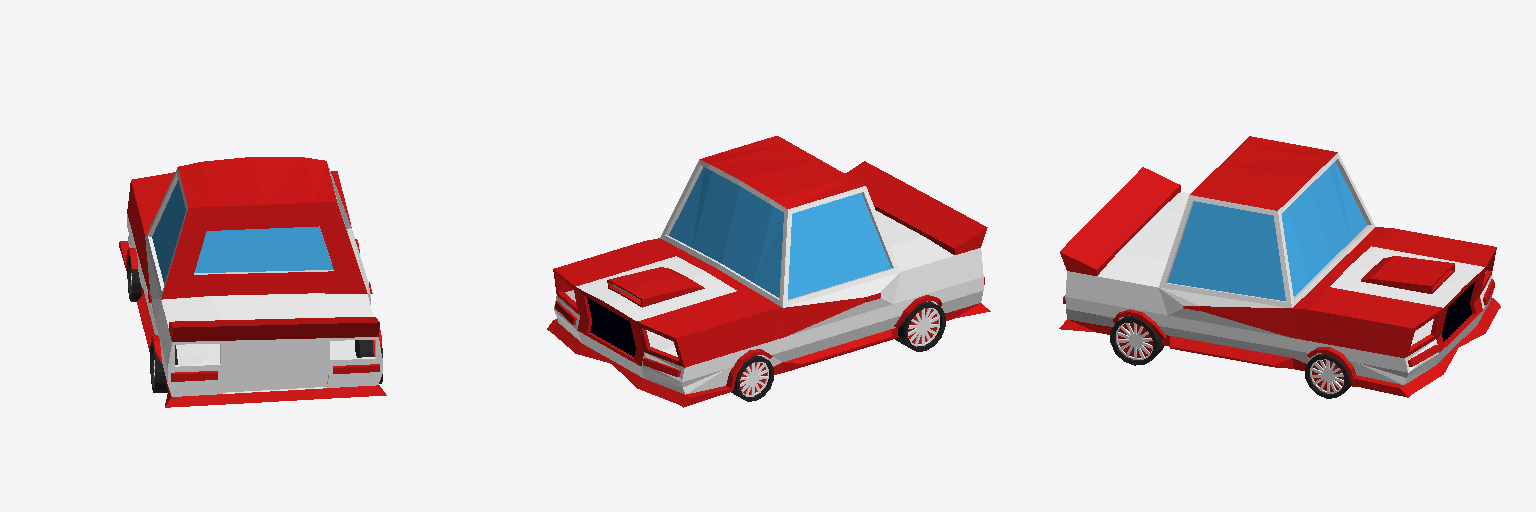
Rendered from car.obj.
3 renders of one model, left to right at view 1: azimuth 30°, elevation 25°; view 2: azimuth 150°, elevation 25°; view 3: azimuth 270°, elevation 25°, orthographic.
Parts seen in each view (by area): view 1: body_ID56; view 2: body_ID56; view 3: body_ID56.
Part boxes in pixels (bbox=[...]): body_ID56: bbox=[119, 157, 386, 407]; body_ID56: bbox=[547, 136, 990, 407]; body_ID56: bbox=[1059, 136, 1500, 398].
Size of the model in its own units: 2.16 by 1.11 by 2.64.